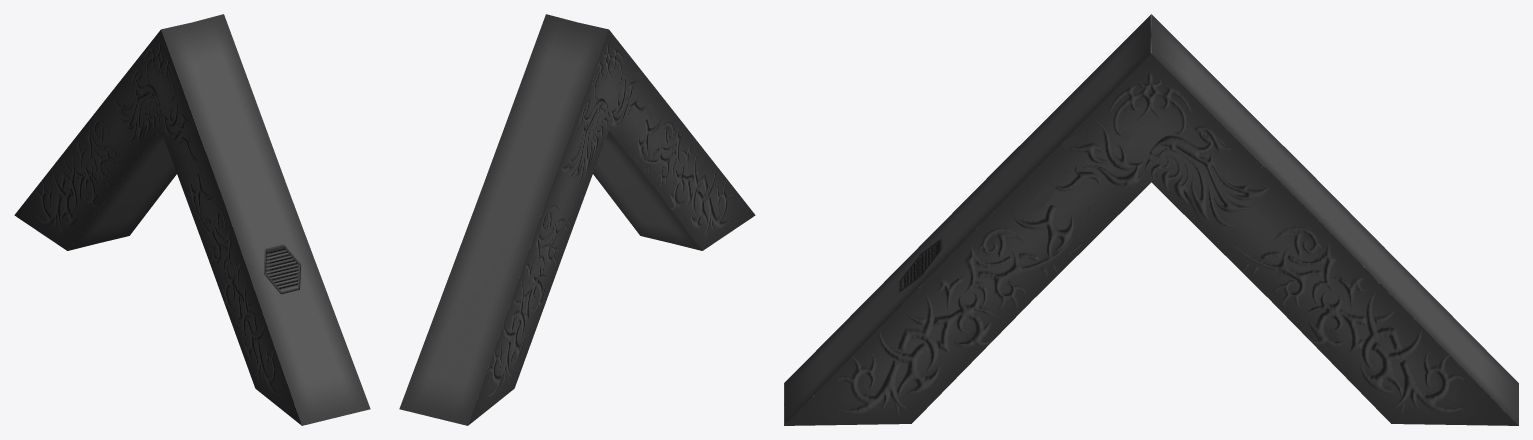
The model's file is Bracket.fbx.
3 renders of one model, left to right at view 1: azimuth 30°, elevation 25°; view 2: azimuth 150°, elevation 25°; view 3: azimuth 270°, elevation 25°, orthographic. The views are drawn at different scales.
Parts seen in each view (by area): view 1: Bracket; view 2: Bracket; view 3: Bracket.
Boxes of the visible parts, box(x1,y1,x2,y2) form: Bracket: box(14, 14, 370, 425); Bracket: box(399, 14, 755, 425); Bracket: box(784, 14, 1518, 425).
Bounding box in the file's own units: 608 × 2458 × 4413.
